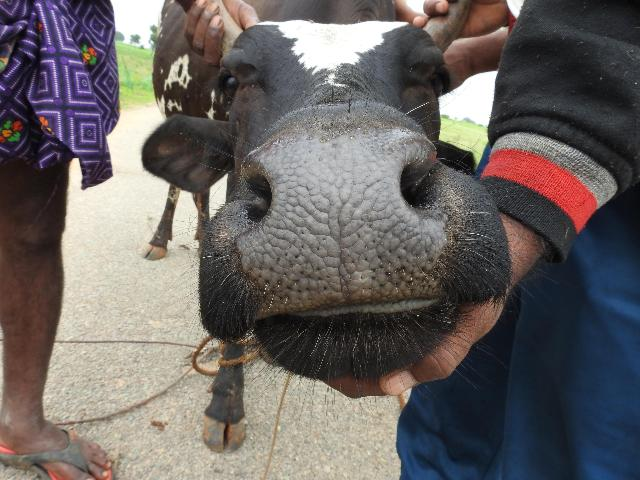Muzzle: (253, 137, 422, 301)
